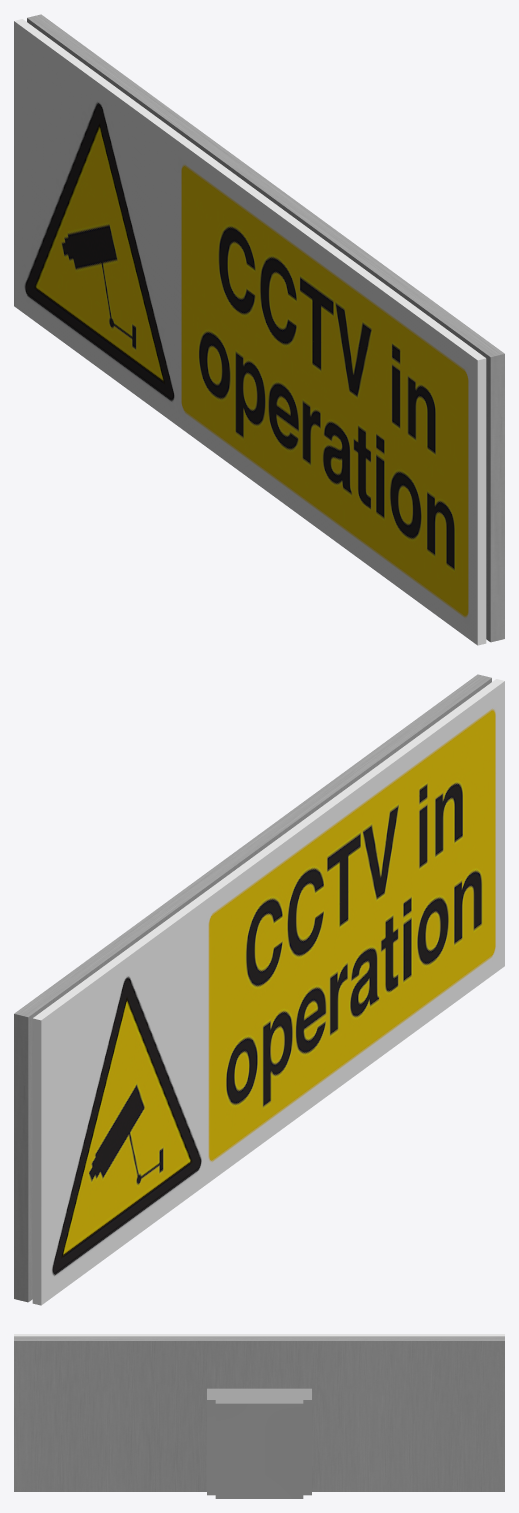
Rendered from cctv_in_operation.obj.
3 renders of one model, top to bottom at view 1: azimuth 30°, elevation 25°; view 2: azimuth 150°, elevation 25°; view 3: azimuth 270°, elevation 25°, orthographic. The views are drawn at different scales.
Parts seen in each view (by area): view 1: cube; view 2: cube; view 3: cube.
Part boxes in pixels (x1,y1,x2,y2): cube: (14, 14, 504, 645); cube: (14, 674, 504, 1305); cube: (14, 1334, 504, 1498).
Size of the model in its own units: 0.0922 by 0.2969 by 0.875.
Materials: 2 (2 with a texture image).
